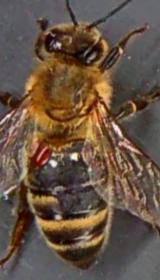varroa_mite: (30, 134, 56, 170)
